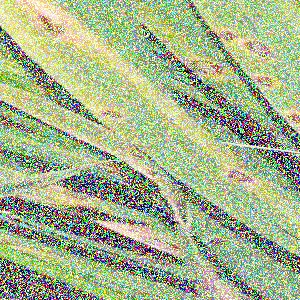Bacterial_Leaf_Blight: (17, 1, 94, 43), (185, 50, 236, 90), (238, 32, 279, 68), (248, 65, 286, 98), (133, 231, 184, 255), (91, 99, 134, 127), (220, 162, 260, 190), (210, 20, 246, 49), (60, 184, 97, 208), (278, 102, 299, 137), (200, 232, 238, 251), (124, 142, 151, 162), (139, 163, 164, 182), (205, 174, 218, 185), (165, 115, 179, 125), (165, 180, 178, 189), (263, 178, 274, 187), (247, 190, 258, 199), (88, 74, 97, 84)
